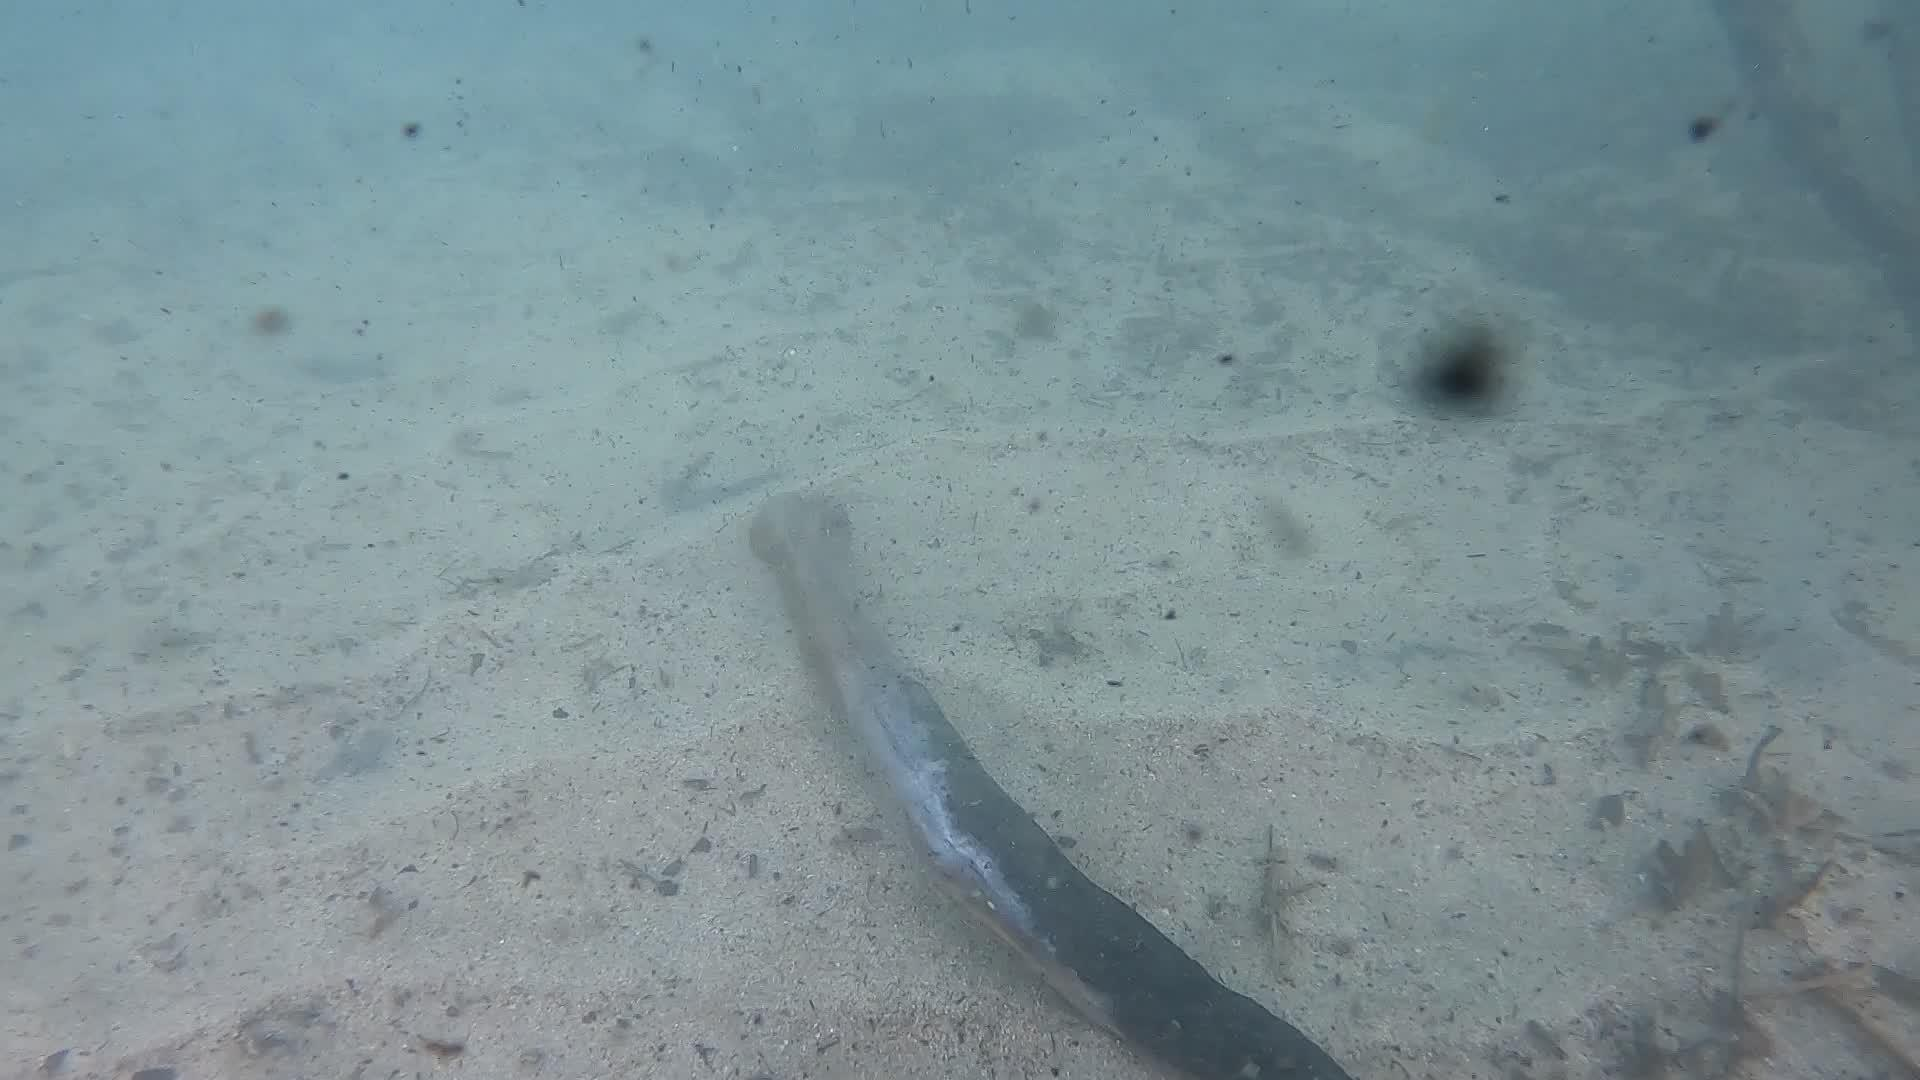wood: (742, 485, 1361, 1080)
